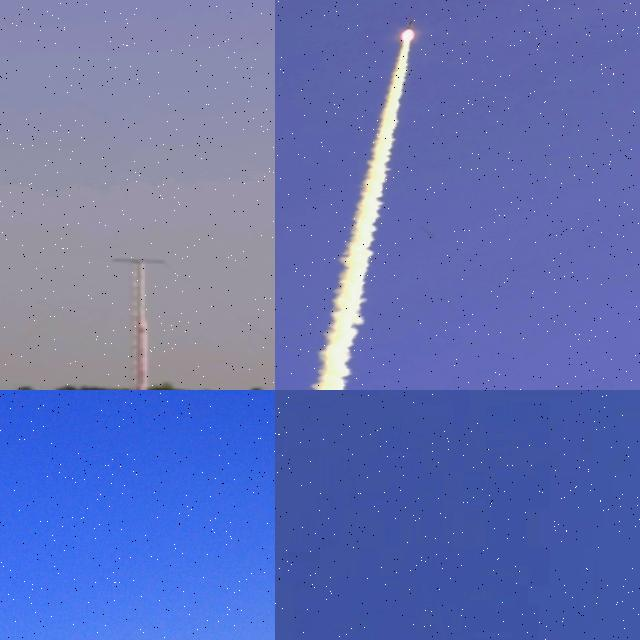Rocket: (136, 320, 150, 390), (407, 19, 413, 29)
